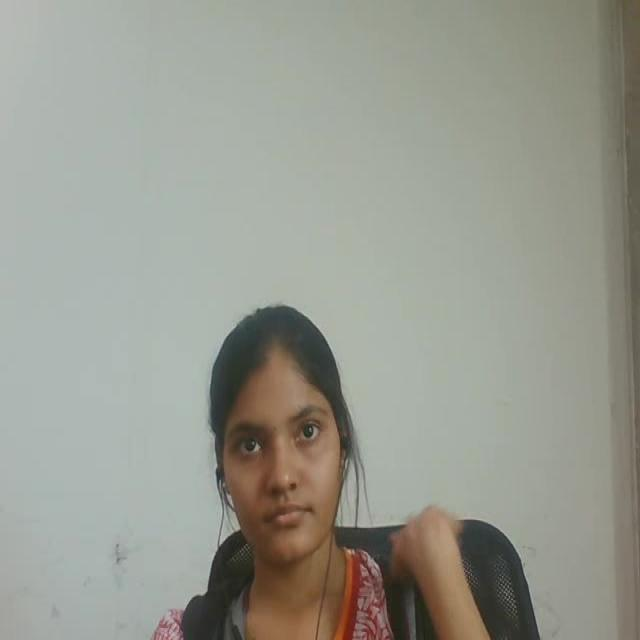Engaged: (184, 281, 372, 602)
